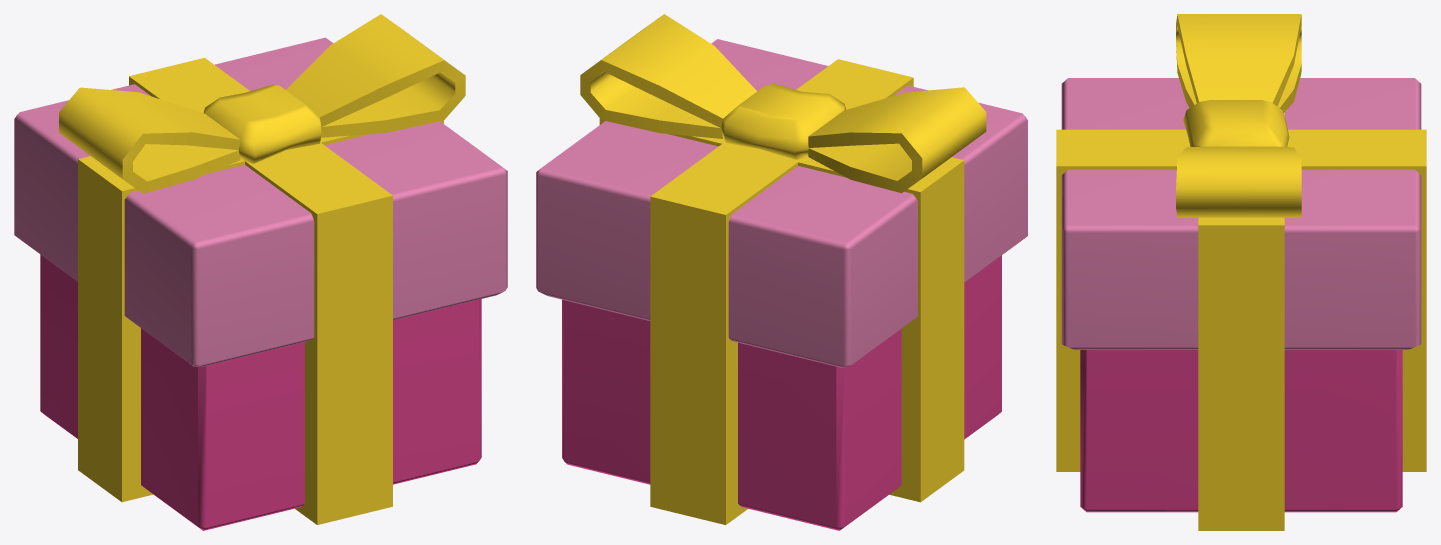
The model's file is SM_Rewards_GiftBox.fbx.
3 views of the same model, side by side, from view 1: azimuth 30°, elevation 25°; view 2: azimuth 150°, elevation 25°; view 3: azimuth 270°, elevation 25° (orthographic).
Parts seen in each view (by area): view 1: SM_Rewards_GiftBox; view 2: SM_Rewards_GiftBox; view 3: SM_Rewards_GiftBox.
Part boxes in pixels (<box>): SM_Rewards_GiftBox: <box>14,14,507,530</box>; SM_Rewards_GiftBox: <box>536,14,1027,530</box>; SM_Rewards_GiftBox: <box>1056,14,1426,530</box>.
Bounding box in the file's own units: 36.8 × 38.33 × 35.01.
